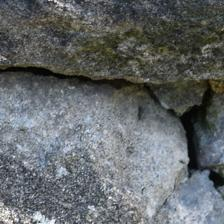Crack: (0, 58, 170, 137), (56, 86, 167, 136), (23, 0, 65, 81)
